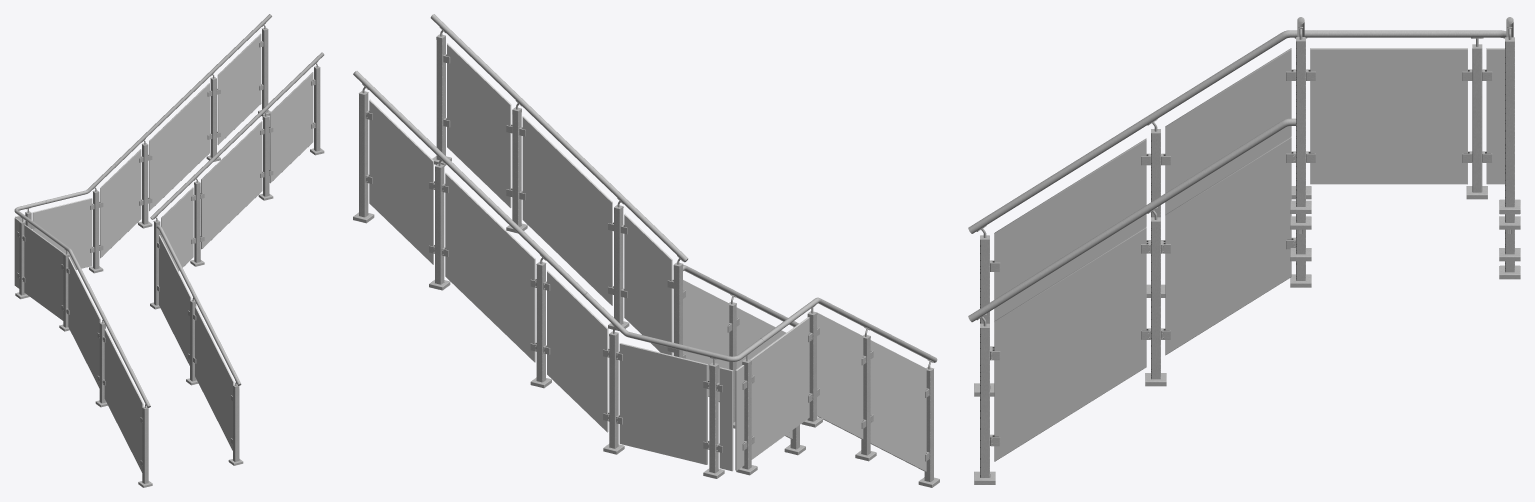
Rendered from L-Shaped_Railing_Circum-Square_Glass.gltf.
3 renders of one model, left to right at view 1: azimuth 30°, elevation 25°; view 2: azimuth 150°, elevation 25°; view 3: azimuth 270°, elevation 25°, orthographic. The views are drawn at different scales.
Visible parts, largest first — view 1: Glass Panel_001, Glass Panel_005, LS208 & LS209 - Circum Square Post Material LS Material [872 (×8), Glass Panel_002, Glass Panel_006, LS208 & LS209 - Circum Square Post Material LS Material [846 (×6), Glass Panel_007, Glass Panel_016, Glass Panel_004, Glass Panel_010, Glass Panel_008, Glass Panel_018 (+8 smaller); view 2: Glass Panel_005, Glass Panel_001, LS208 & LS209 - Circum Square Post Material LS Material [872 (×9), Glass Panel_008, Glass Panel_006, Glass Panel_002, Glass Panel_007, Glass Panel_010, Glass Panel_016, Glass Panel_000, Glass Panel_018, LS208 & LS209 - Circum Square Post Material LS Material [846 (×4) (+9 smaller); view 3: Glass Panel_004, Glass Panel_010, Glass Panel_003, Glass Panel_016, Glass Panel_018, LS208 & LS209 - Circum Square Post Material LS Material [846 (×3), LS208 & LS209 - Circum Square Post Material LS Material [872 (×4), Nested_Bend Bend [8719267]001, Nested_Rail LS Material [8719249], Glass Panel_011, Nested_Bend Bend [8719267].
Boxes of the visible parts, left/top/right/bottom form: Glass Panel_001: left=201, top=121, right=262, bottom=249; Glass Panel_005: left=149, top=83, right=209, bottom=210; LS208 & LS209 - Circum Square Post Material LS Material [872 (×8): left=19, top=29, right=268, bottom=483; Glass Panel_002: left=269, top=72, right=313, bottom=183; Glass Panel_006: left=217, top=33, right=261, bottom=144; LS208 & LS209 - Circum Square Post Material LS Material [846 (×6): left=153, top=67, right=320, bottom=461; Glass Panel_007: left=100, top=149, right=141, bottom=258; Glass Panel_016: left=104, top=328, right=143, bottom=472; Glass Panel_004: left=195, top=306, right=234, bottom=450; Glass Panel_010: left=24, top=224, right=64, bottom=320; Glass Panel_008: left=32, top=198, right=92, bottom=269; Glass Panel_018: left=68, top=257, right=100, bottom=388; Glass Panel_005: left=445, top=173, right=535, bottom=362; Glass Panel_001: left=522, top=116, right=612, bottom=305; LS208 & LS209 - Circum Square Post Material LS Material [872 (×9): left=359, top=93, right=933, bottom=481; Glass Panel_008: left=619, top=343, right=707, bottom=464; Glass Panel_006: left=369, top=99, right=433, bottom=264; Glass Panel_002: left=447, top=43, right=511, bottom=207; Glass Panel_007: left=547, top=270, right=608, bottom=432; Glass Panel_010: left=750, top=317, right=809, bottom=459; Glass Panel_016: left=870, top=340, right=926, bottom=471; Glass Panel_000: left=624, top=214, right=672, bottom=355; Glass Panel_018: left=816, top=312, right=863, bottom=439; LS208 & LS209 - Circum Square Post Material LS Material [846 (×4): left=436, top=36, right=683, bottom=357; Glass Panel_004: left=994, top=226, right=1146, bottom=461; Glass Panel_010: left=1310, top=48, right=1467, bottom=184; Glass Panel_003: left=1165, top=136, right=1291, bottom=355; Glass Panel_016: left=994, top=138, right=1146, bottom=320; Glass Panel_018: left=1165, top=48, right=1291, bottom=214; LS208 & LS209 - Circum Square Post Material LS Material [846 (×3): left=980, top=42, right=1305, bottom=477; LS208 & LS209 - Circum Square Post Material LS Material [872 (×4): left=980, top=42, right=1514, bottom=323; Nested_Bend Bend [8719267]001: left=968, top=118, right=1295, bottom=321; Nested_Rail LS Material [8719249]: left=968, top=64, right=1234, bottom=233; Glass Panel_011: left=1486, top=48, right=1504, bottom=184; Nested_Bend Bend [8719267]: left=1232, top=30, right=1437, bottom=69.
Size of the model in its own units: 3.05 by 3.48 by 2.79.
